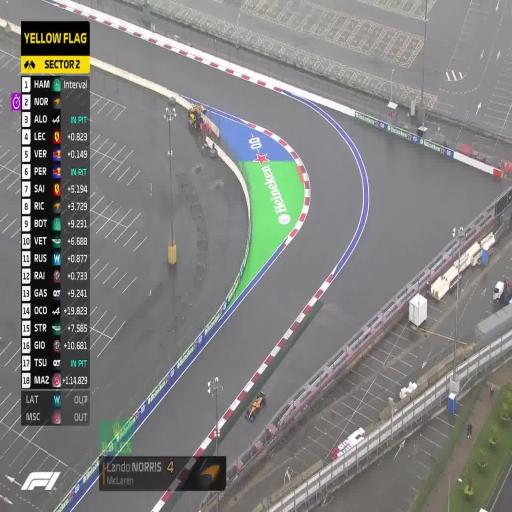f1_car: (243, 386, 270, 427)
